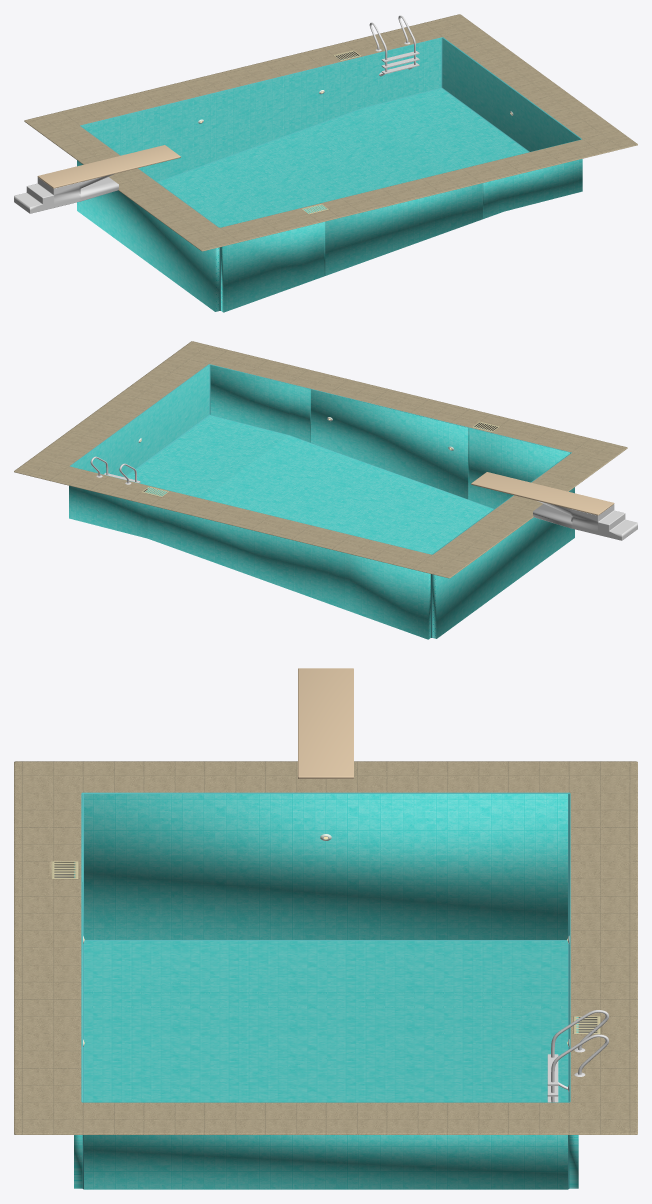
The model's file is Pool.glb.
3 views of the same model, one above another, from view 1: azimuth 30°, elevation 25°; view 2: azimuth 150°, elevation 25°; view 3: azimuth 270°, elevation 25° (orthographic). The views are drawn at different scales.
Parts seen in each view (by area): view 1: Pool Main, Trampolin; view 2: Pool Main, Trampolin; view 3: Pool Main, Trampolin.
Part boxes in pixels (x1,y1,x2,y2): Pool Main: [24, 14, 637, 312]; Trampolin: [14, 145, 180, 213]; Pool Main: [14, 341, 627, 639]; Trampolin: [471, 472, 637, 540]; Pool Main: [14, 761, 637, 1189]; Trampolin: [298, 668, 353, 778].
Size of what is drawn, in the model's own units: 59.12 by 11.44 by 34.62.
Materials: 12 (3 with a texture image).
